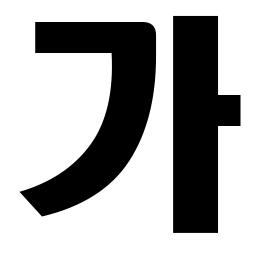Gaji: (158, 82, 235, 141)
